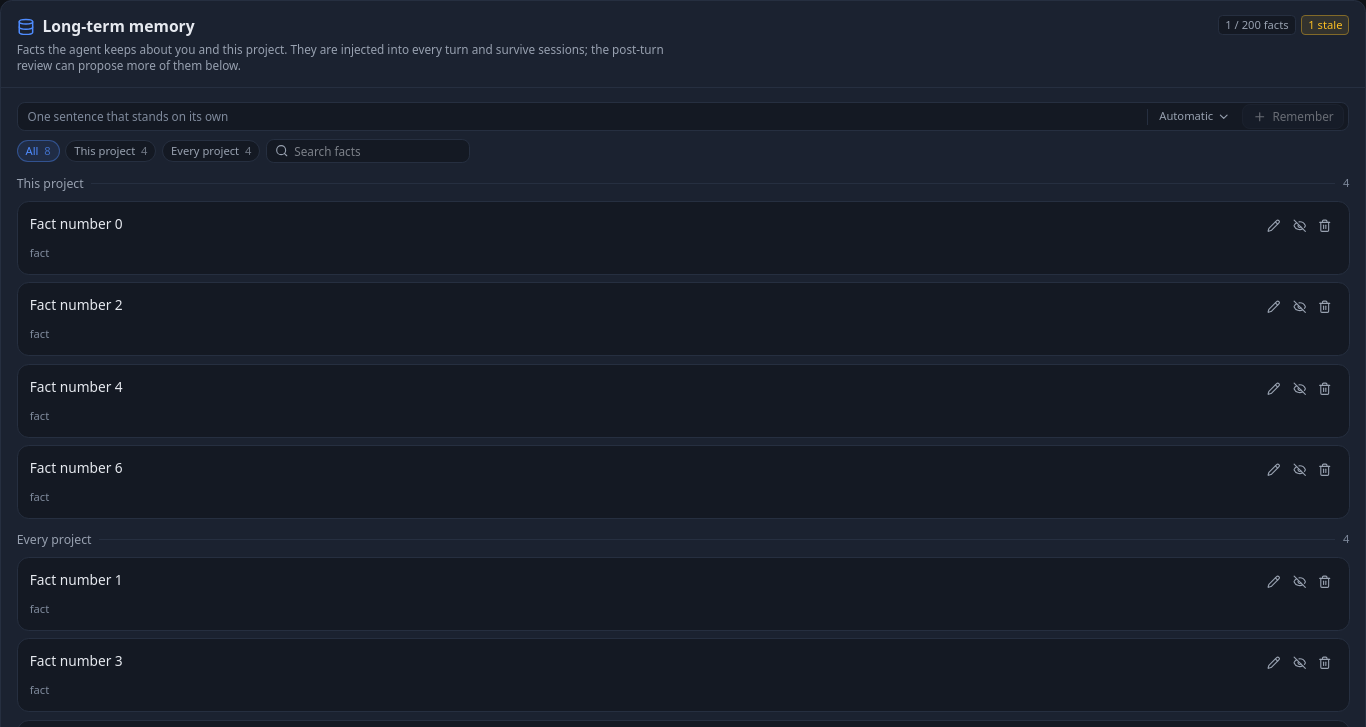
Test: UserMemoryCard › piles the store, and the toolbar narrows the pools
Expected: the text "Fact number 0" is shown, [29,214,122,232]
Expected: the button "All 8" is shown, [17,140,60,162]
Click the button "Every project 4": (211, 151) [162,140,260,162]
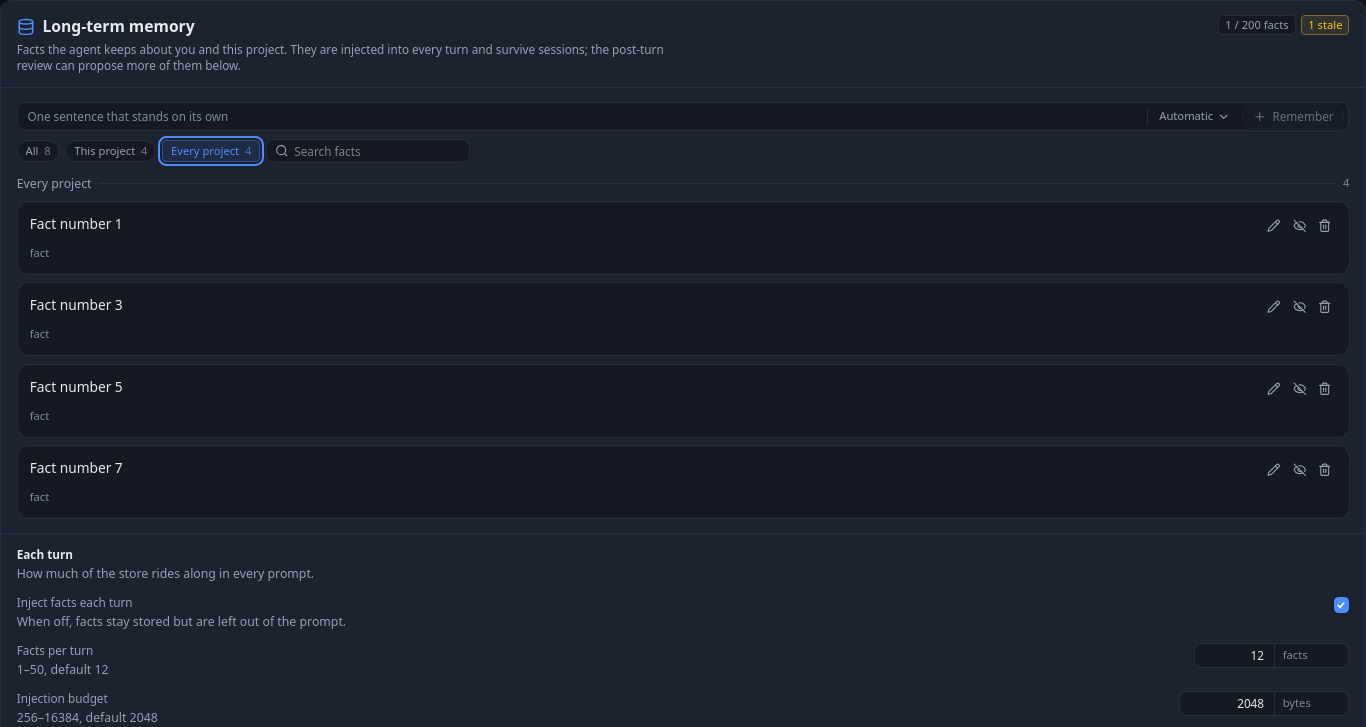
Expected: the text "Fact number 1" is shown, [29,214,122,232]
Now the text "Fact number 0" is gone
In the field labelled "Search facts": (378, 151) [294,139,461,163], type "number 7"
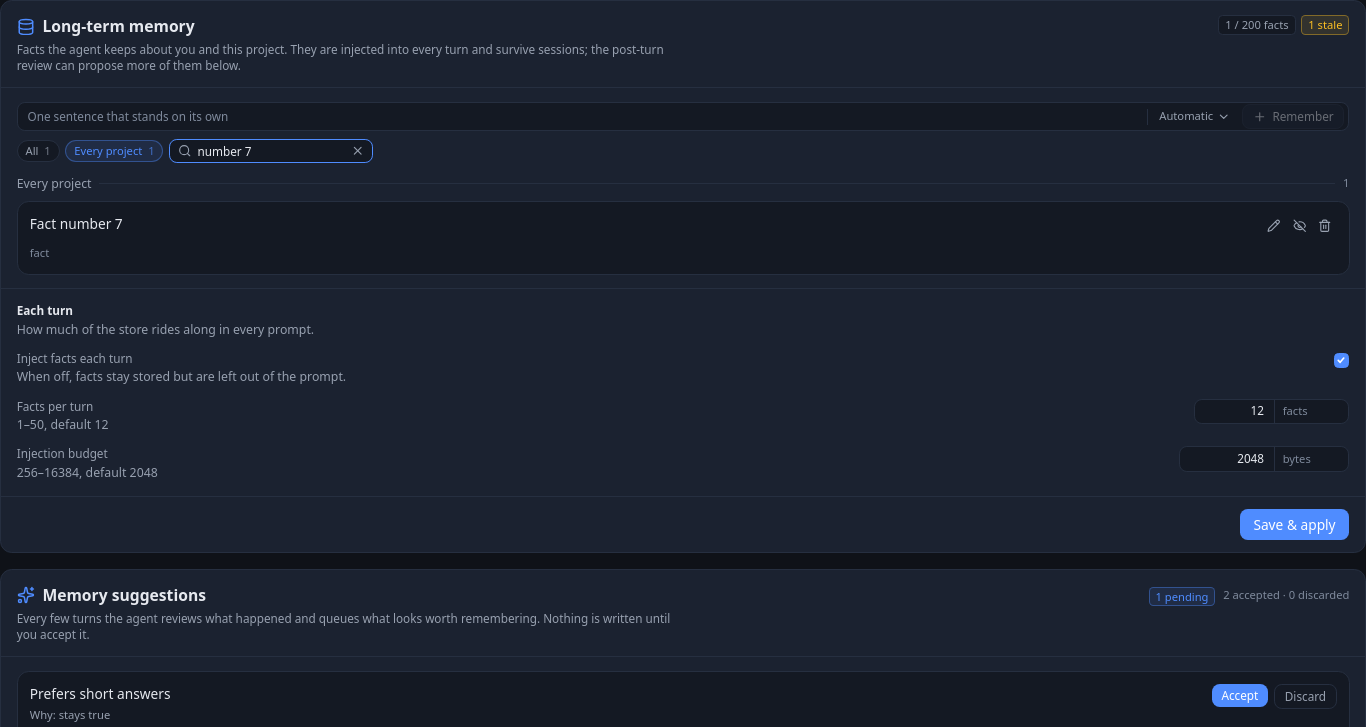
Expected: the text "Fact number 7" is shown, [29,214,122,232]
Now the text "Fact number 1" is gone
Now the button "Every project 1" is shown, box [65,140,163,162]
// A miss says so rather than showing an empty list.
In the field named "Search facts": (271, 151) [198,139,345,163], type "nope"
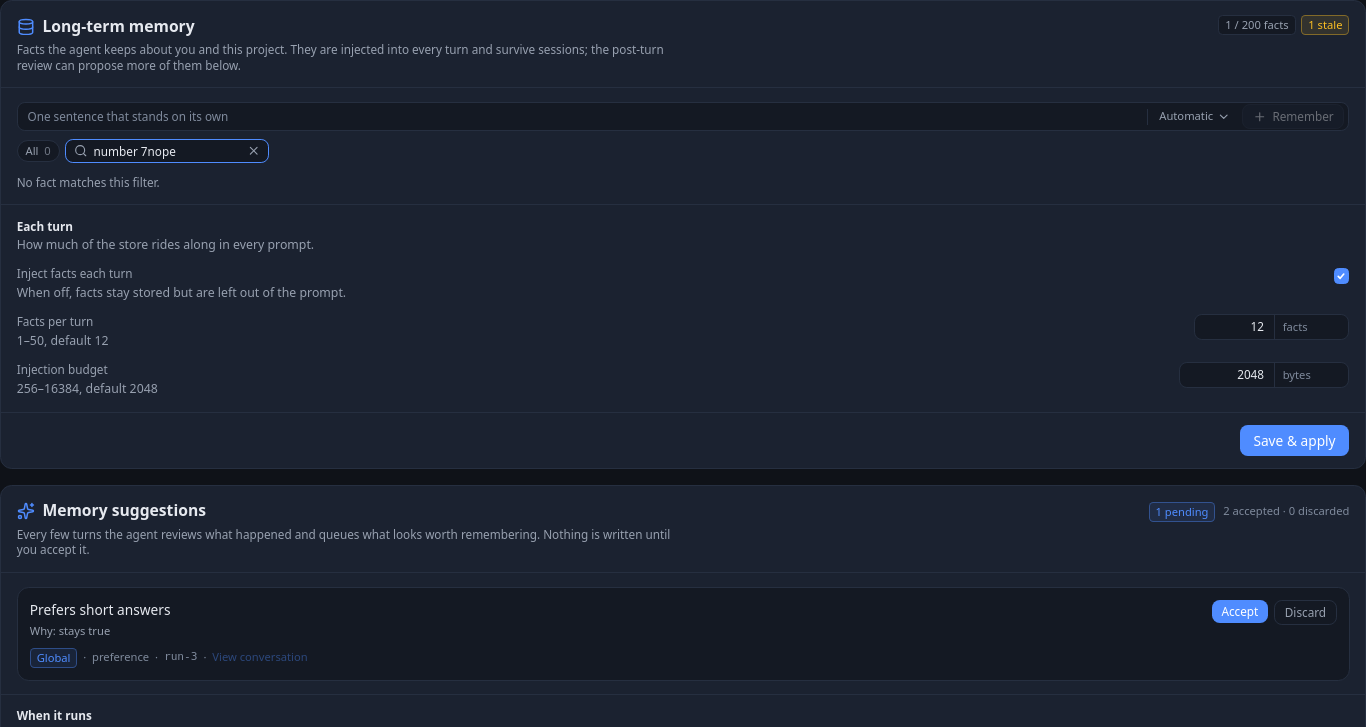
Now the text "No fact matches this filter." is shown, box [17,174,160,190]
